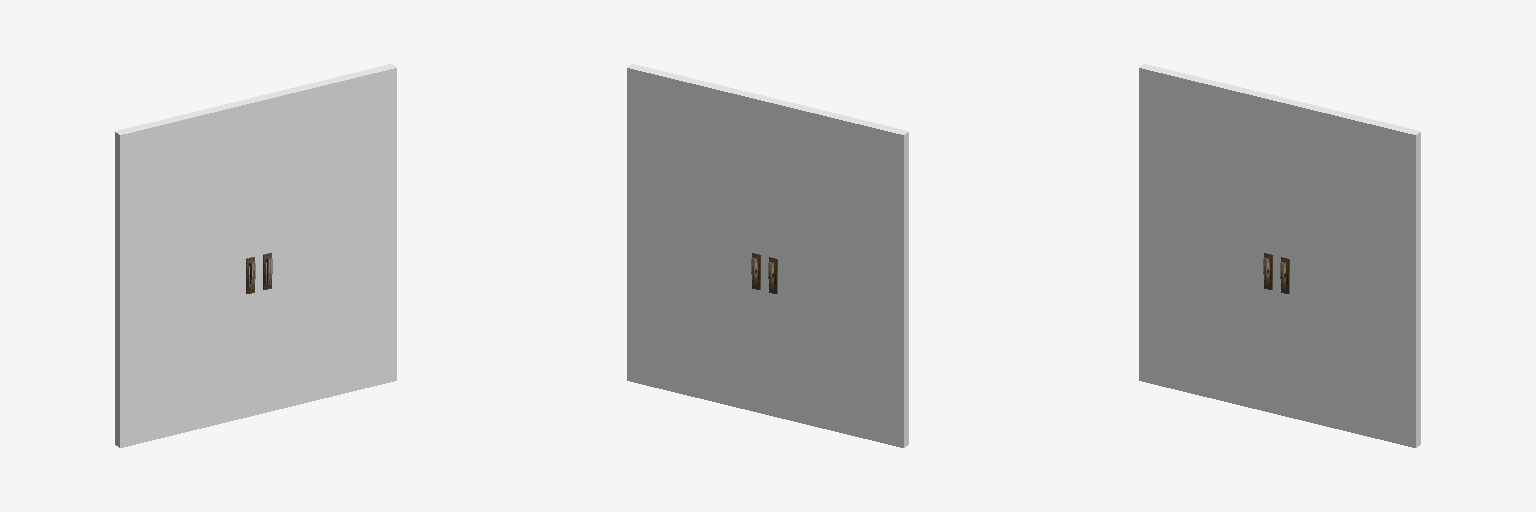
The picture shows the model from 3 angles: view 1: azimuth 30°, elevation 25°; view 2: azimuth 150°, elevation 25°; view 3: azimuth 330°, elevation 25°; orthographic projection.
Parts seen in each view (by area): view 1: CK01_CK01Shape, CK00_CK00Shape; view 2: CK01_CK01Shape, CK00_CK00Shape; view 3: CK00_CK00Shape, CK01_CK01Shape.
Part boxes in pixels (x1,y1,x2,y2): CK01_CK01Shape: (115,98,258,447); CK00_CK00Shape: (253,64,396,413); CK01_CK01Shape: (765,98,908,447); CK00_CK00Shape: (627,64,770,413); CK00_CK00Shape: (1277,98,1420,447); CK01_CK01Shape: (1139,64,1282,413).
Bounding box in the file's own units: 2.04 × 2.2 × 0.1602.
Materials: 3 (1 with a texture image).